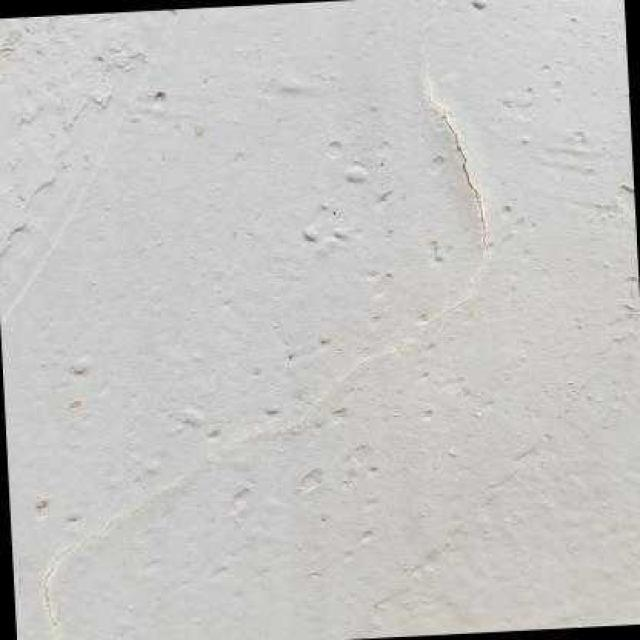D00: (36, 108, 496, 640)
